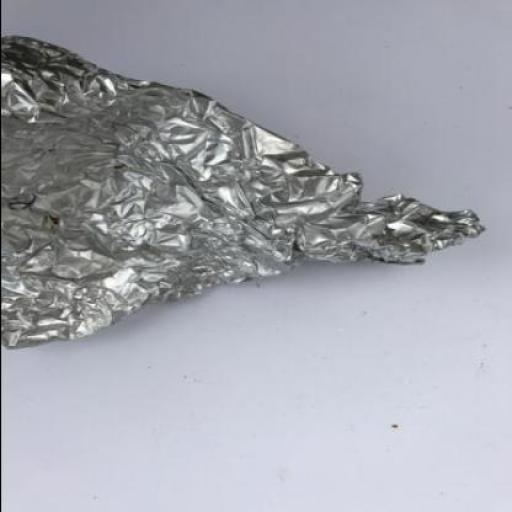metal: (2, 37, 482, 352)
